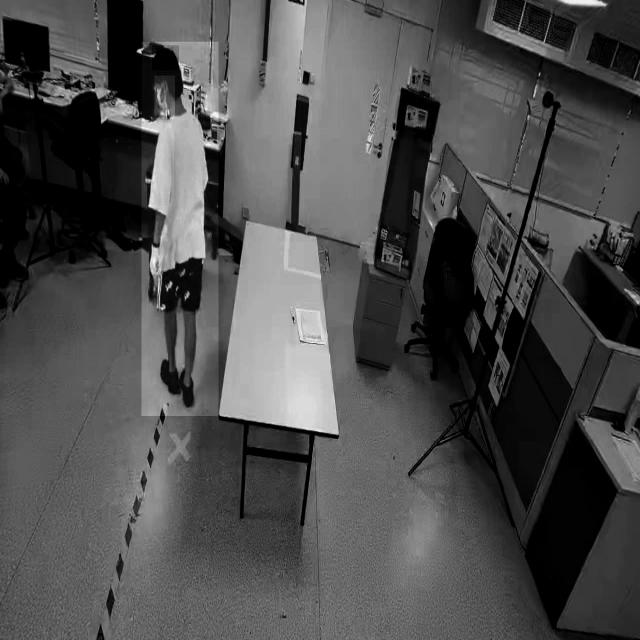face_mask: (155, 76, 175, 116)
hand_glove: (149, 236, 167, 290)
head_nohelmet: (152, 45, 180, 71)
person: (141, 42, 219, 417)
shoes: (156, 349, 183, 401), (177, 360, 198, 413)
